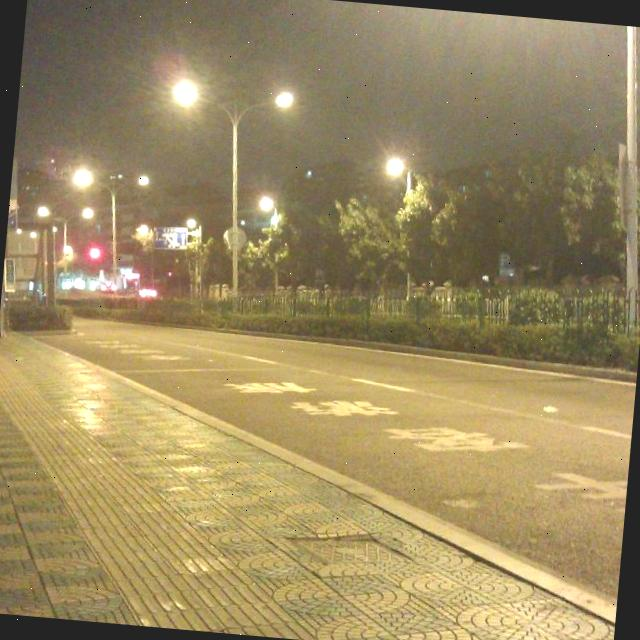curb: (84, 361, 616, 625), (215, 328, 636, 384)
